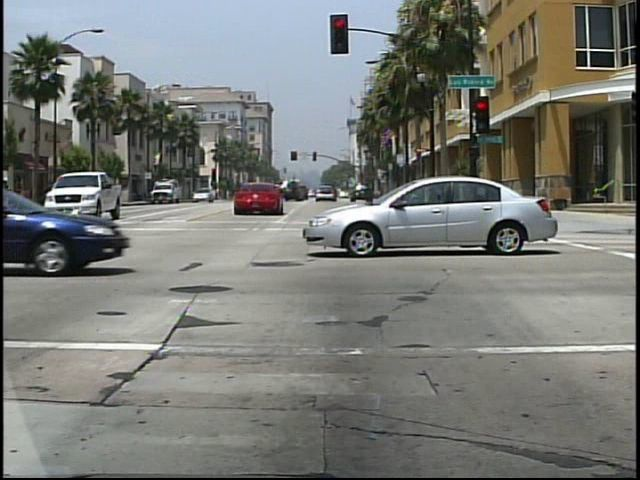person: (1, 173, 23, 229)
